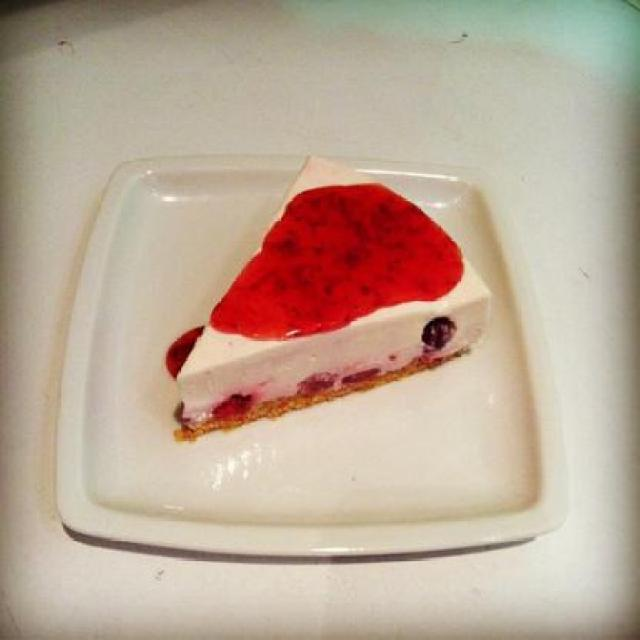Rare cheese cake: (132, 144, 520, 462)
